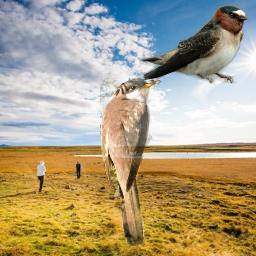Cuckoo: (100, 78, 161, 246)
Swallow: (139, 2, 252, 85)
